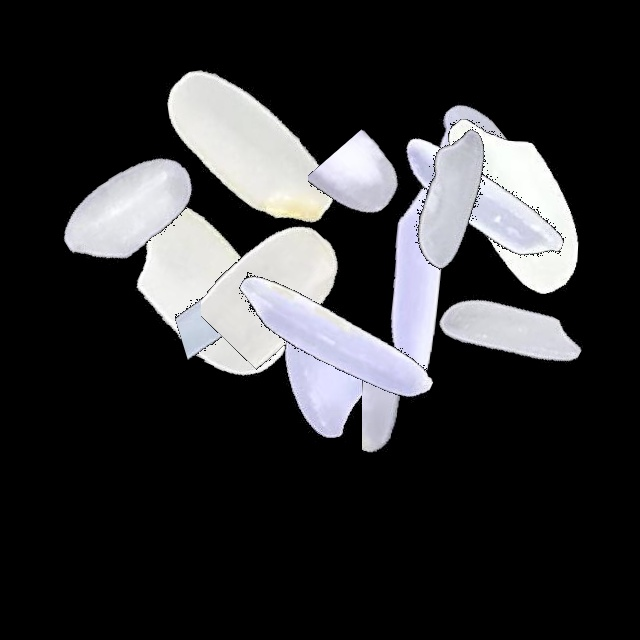Broken: (201, 155, 368, 405), (386, 53, 636, 215), (129, 230, 379, 388), (308, 83, 450, 333), (362, 271, 487, 521)
Full: (85, 164, 335, 414), (289, 155, 539, 405), (386, 83, 636, 333), (358, 77, 608, 327), (126, 20, 376, 270), (203, 247, 453, 497), (4, 85, 254, 335), (211, 212, 461, 462), (330, 73, 580, 323), (387, 209, 637, 459)
